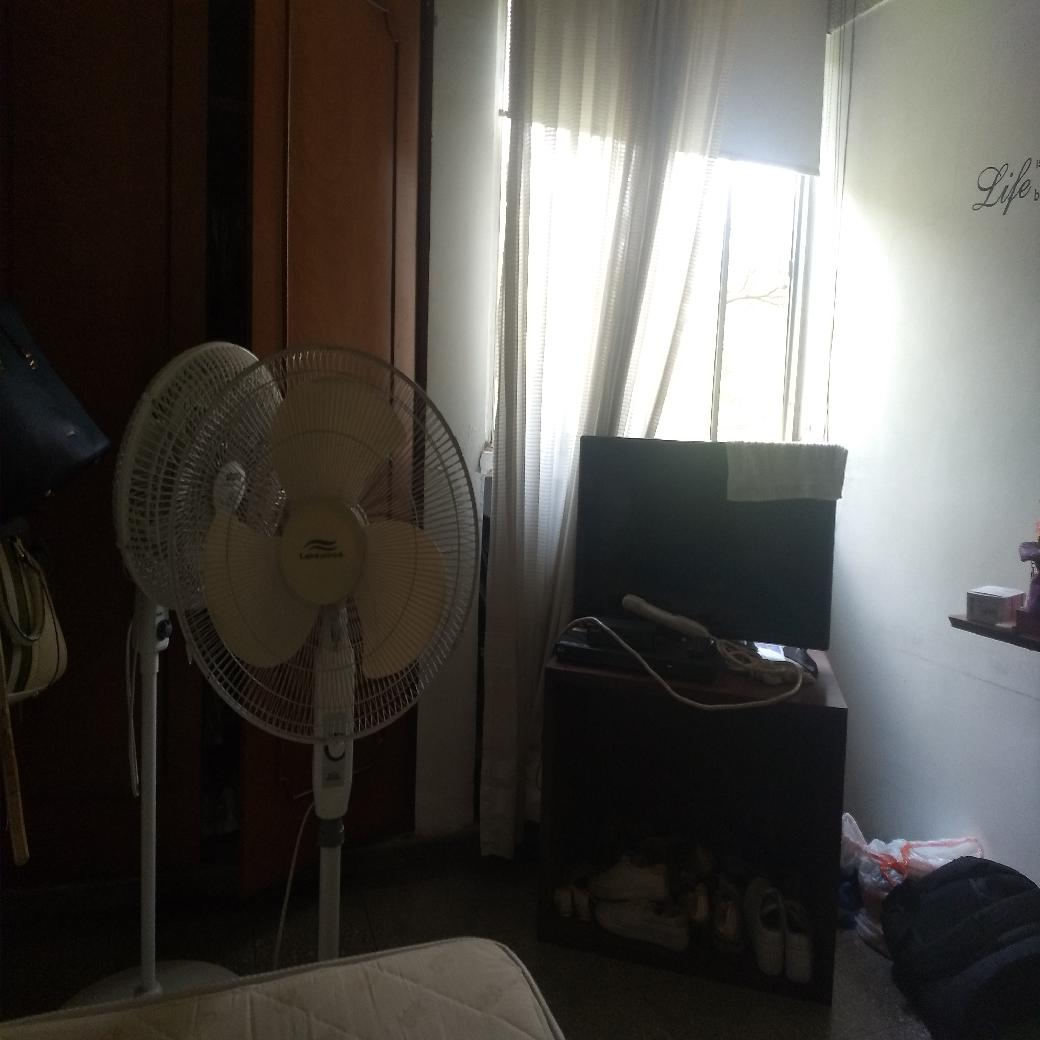tv: (575, 435, 834, 648)
ventilador: (166, 353, 480, 735)
